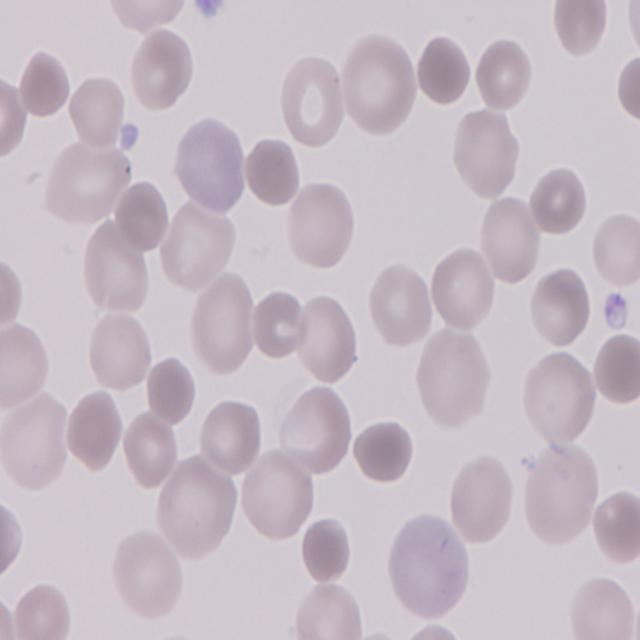Platelets: (604, 288, 634, 330), (119, 120, 142, 152)
RBC: (156, 458, 241, 560), (519, 444, 598, 550), (339, 34, 419, 136), (520, 350, 594, 452), (416, 327, 490, 429), (241, 450, 317, 546), (173, 114, 247, 212), (80, 216, 152, 314), (188, 276, 256, 378), (448, 105, 520, 201), (276, 54, 346, 152), (112, 524, 184, 618), (280, 384, 352, 478), (286, 182, 358, 274), (446, 452, 514, 548), (476, 192, 542, 288), (2, 392, 64, 494), (298, 290, 364, 384), (126, 25, 194, 111), (428, 242, 494, 330), (368, 260, 434, 346), (88, 308, 152, 396), (525, 264, 592, 346), (61, 388, 122, 471), (200, 396, 264, 474), (566, 572, 638, 640), (0, 318, 51, 410), (291, 577, 364, 640), (65, 72, 123, 149), (474, 36, 536, 108), (527, 165, 588, 238), (121, 416, 178, 489), (352, 420, 414, 483), (592, 210, 640, 290), (254, 288, 306, 359), (11, 583, 70, 640), (553, 2, 610, 59), (0, 254, 27, 333), (0, 73, 24, 160)
Spherocyte: (414, 32, 476, 107), (244, 136, 305, 207), (113, 179, 169, 254), (144, 357, 196, 427), (591, 336, 640, 408), (301, 514, 352, 582), (22, 52, 68, 120)
WBC: (386, 514, 470, 627)
